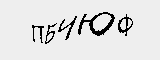Б: (43, 19, 56, 43)
П: (29, 22, 44, 46)
Ф: (115, 12, 134, 38)
Ч: (56, 15, 76, 39)
Ю: (76, 11, 115, 35)
